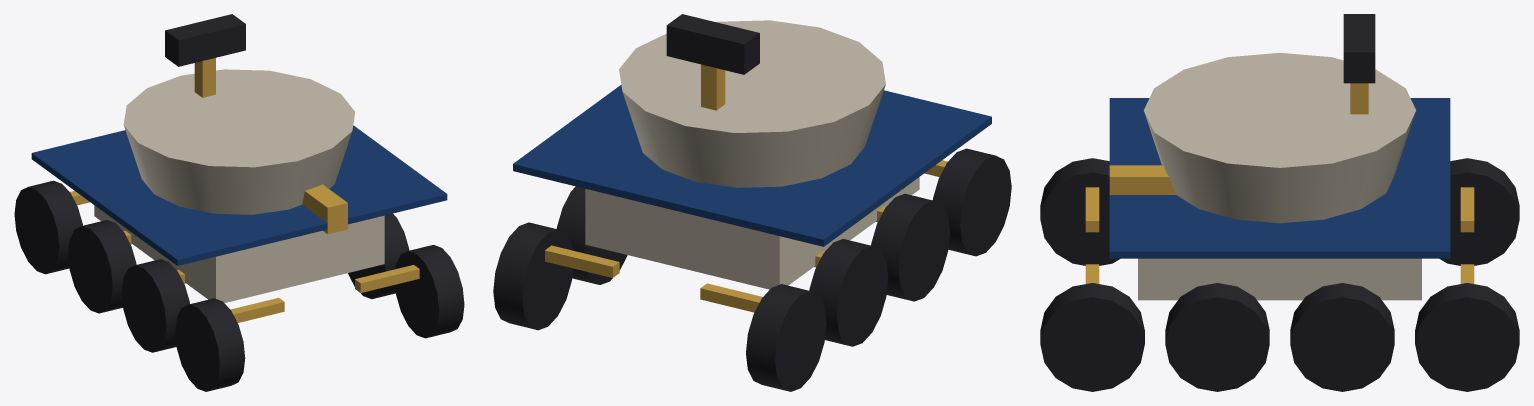
File: lunokhod-1.glb
3 views of the same model, side by side, from view 1: azimuth 30°, elevation 25°; view 2: azimuth 150°, elevation 25°; view 3: azimuth 270°, elevation 25° (orthographic). The views are drawn at different scales.
Bounding box in the file's own units: 1.6 × 1.41 × 2.11.
